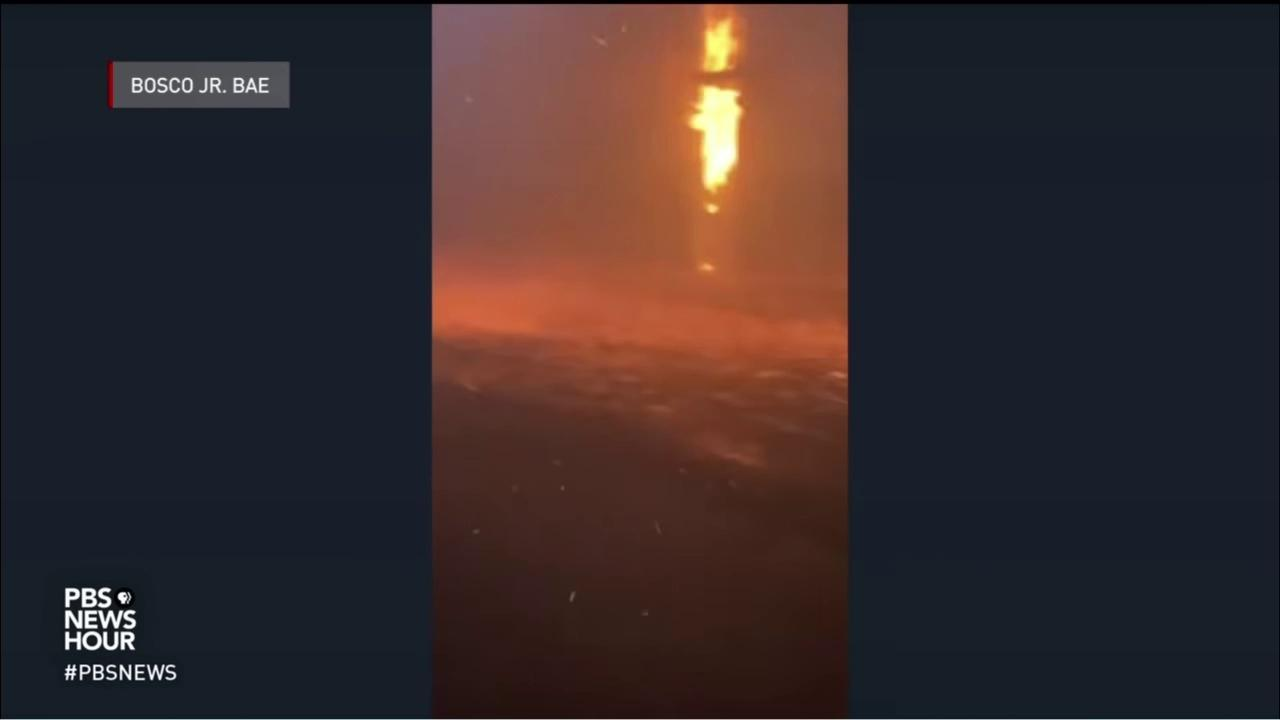fire: (687, 4, 749, 195), (703, 201, 721, 216)
smoke: (431, 4, 847, 348)
